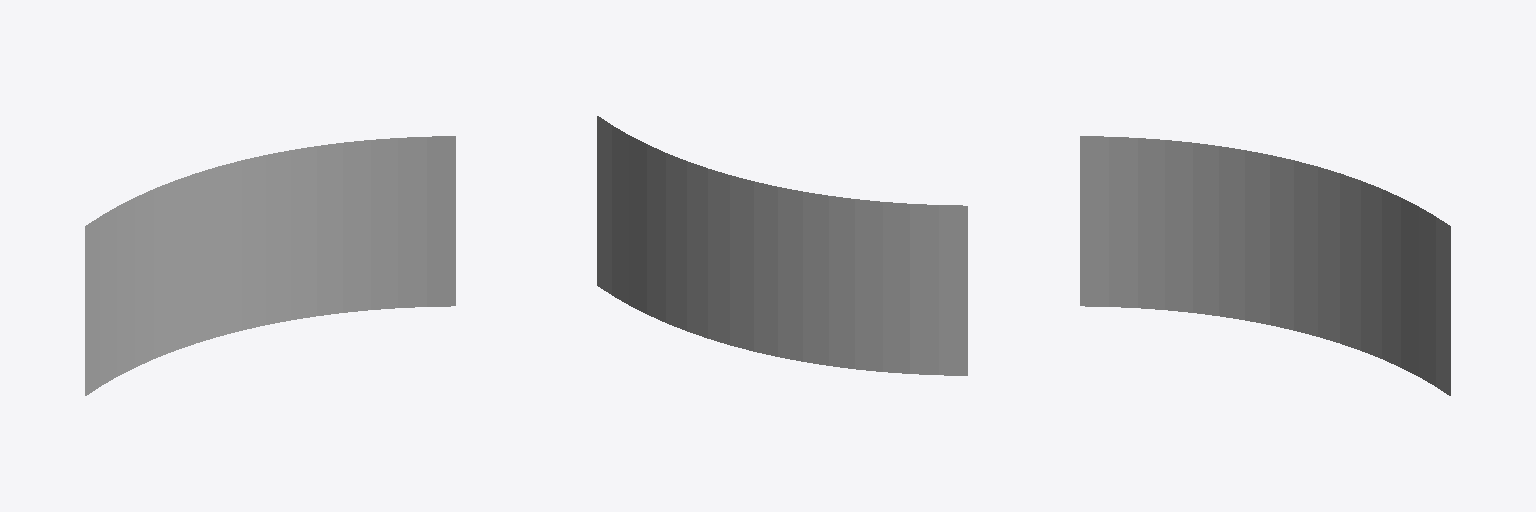
File: ScreenContent.obj
The picture shows the model from 3 angles: view 1: azimuth 30°, elevation 25°; view 2: azimuth 150°, elevation 25°; view 3: azimuth 330°, elevation 25°; orthographic projection.
Parts seen in each view (by area): view 1: ScreenContent; view 2: ScreenContent; view 3: ScreenContent.
Part boxes in pixels (x1,y1,x2,y2): ScreenContent: (85,136,455,395); ScreenContent: (597,116,967,375); ScreenContent: (1080,136,1450,395).
Size of the model in its own units: 7.82 by 3.43 by 1.04.